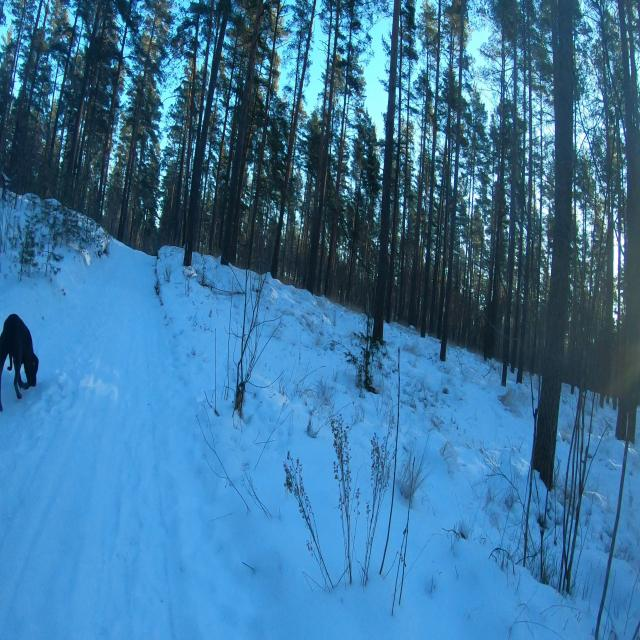bush: (558, 388, 595, 593), (284, 452, 334, 588), (234, 270, 275, 417), (331, 416, 359, 583), (362, 425, 391, 585), (347, 314, 376, 392), (20, 216, 35, 280)
trees: (532, 0, 574, 490), (270, 0, 316, 277), (184, 0, 230, 266), (221, 0, 263, 264), (305, 0, 340, 292), (617, 0, 640, 433), (440, 3, 466, 361), (373, 0, 400, 342), (117, 14, 156, 241), (247, 0, 280, 268), (457, 84, 487, 346), (98, 0, 132, 222), (324, 26, 352, 294), (67, 0, 103, 204), (421, 0, 441, 337), (501, 3, 518, 386), (208, 36, 237, 251), (172, 15, 199, 240), (438, 22, 454, 361), (518, 64, 534, 382), (12, 0, 43, 160), (485, 104, 505, 348), (48, 12, 78, 168), (179, 18, 199, 244), (387, 39, 402, 322), (602, 88, 614, 395), (196, 0, 214, 149), (398, 97, 410, 319), (28, 0, 49, 114), (7, 0, 27, 110), (244, 63, 262, 165), (47, 58, 61, 145), (76, 114, 90, 181), (301, 178, 311, 251), (58, 108, 69, 169), (202, 142, 212, 205), (600, 7, 608, 84), (264, 194, 272, 250), (500, 37, 504, 100), (191, 155, 195, 191), (200, 213, 204, 227), (198, 228, 201, 246), (87, 97, 91, 110), (213, 109, 216, 123), (299, 257, 302, 269), (213, 98, 217, 105)
